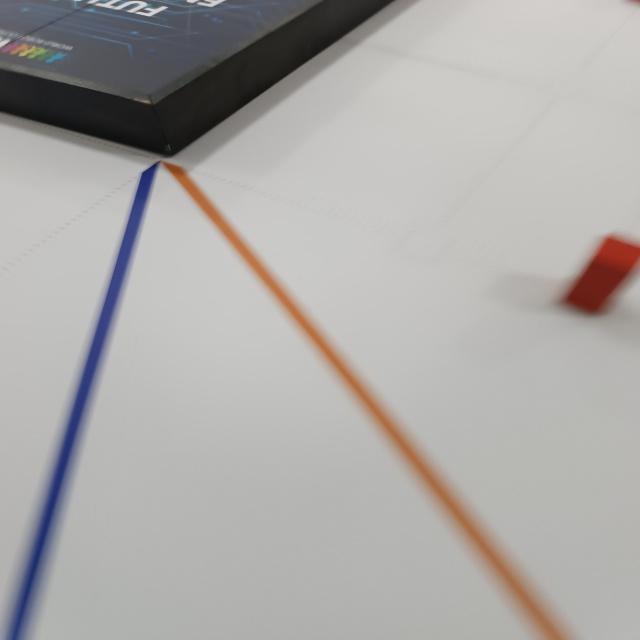blue line: (0, 160, 156, 640)
orange line: (163, 164, 577, 640)
red rectangular prism: (558, 236, 640, 315)
